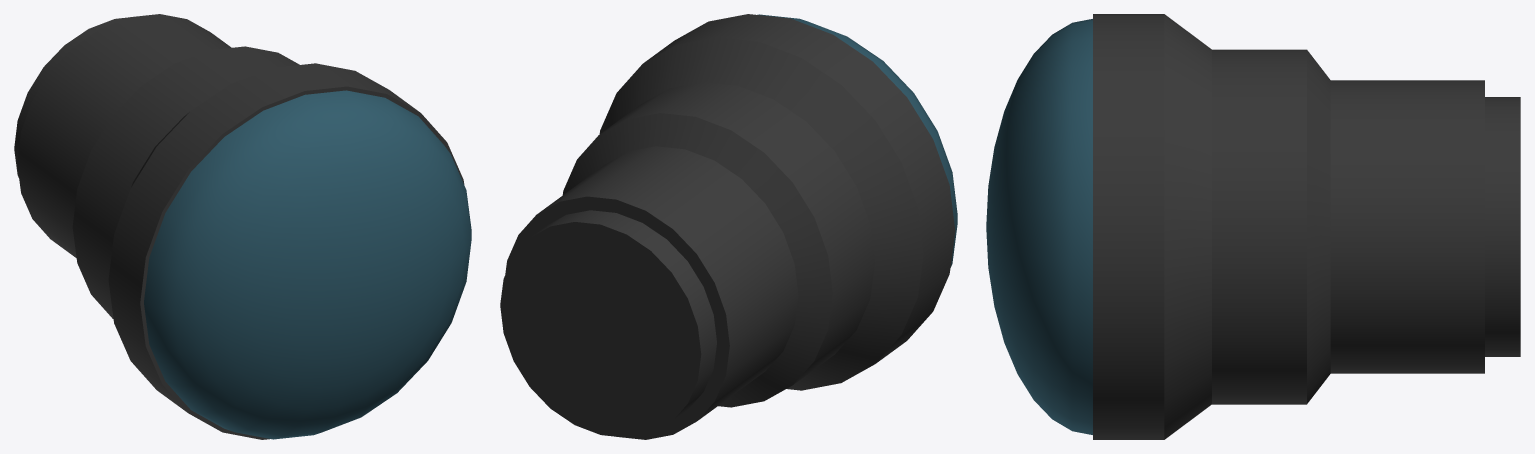
The model's file is ET-D3LEF70.glb.
3 renders of one model, left to right at view 1: azimuth 30°, elevation 25°; view 2: azimuth 150°, elevation 25°; view 3: azimuth 270°, elevation 25°, orthographic. The views are drawn at different scales.
Parts seen in each view (by area): view 1: Lens_Glass, Lens_Barrel; view 2: Lens_Barrel, Lens_Glass; view 3: Lens_Barrel, Lens_Glass.
Part boxes in pixels (bbox=[...]): Lens_Glass: bbox=[144, 90, 471, 439]; Lens_Barrel: bbox=[14, 14, 464, 439]; Lens_Barrel: bbox=[500, 14, 955, 439]; Lens_Glass: bbox=[757, 14, 957, 267]; Lens_Barrel: bbox=[1093, 14, 1520, 439]; Lens_Glass: bbox=[986, 19, 1092, 434].
Size of the model in its own units: 0.18 by 0.18 by 0.225.
